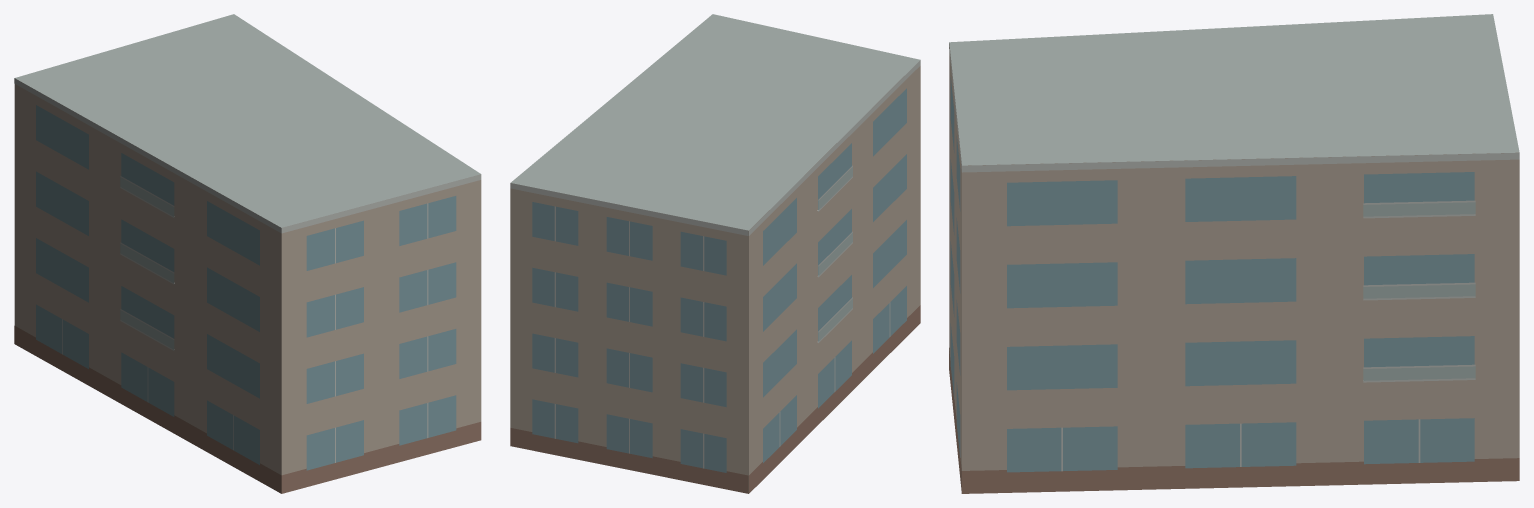
File: survey-upis-33031246.glb
The picture shows the model from 3 angles, left to right: view 1: azimuth 30°, elevation 25°; view 2: azimuth 150°, elevation 25°; view 3: azimuth 270°, elevation 25°; orthographic projection. The views are drawn at different scales.
Parts seen in each view (by area): view 1: survey-upis-33031246.tmp; view 2: survey-upis-33031246.tmp; view 3: survey-upis-33031246.tmp.
Boxes of the visible parts, x1,y1,x2,y2 form: survey-upis-33031246.tmp: (14, 14, 481, 493); survey-upis-33031246.tmp: (510, 14, 920, 493); survey-upis-33031246.tmp: (949, 14, 1519, 493).
Size of the model in its own units: 11.5 by 11.6 by 18.28.
